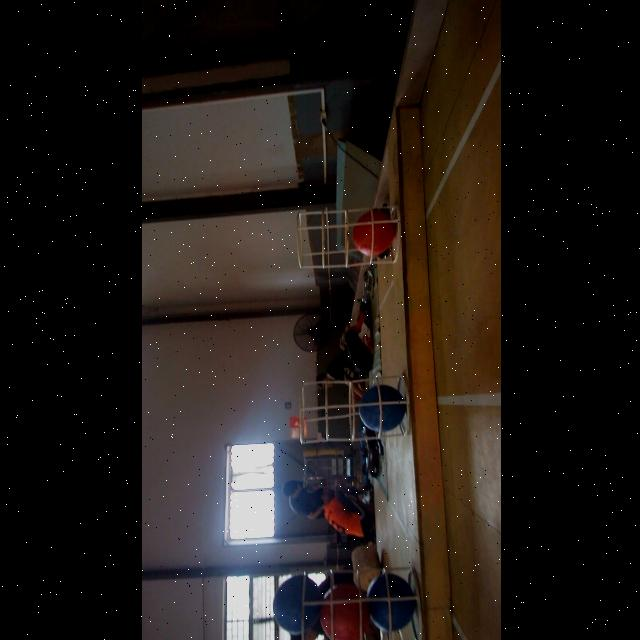B: (363, 574, 412, 628), (272, 575, 318, 631), (357, 385, 405, 431)
R: (317, 584, 368, 640), (352, 210, 394, 256)
